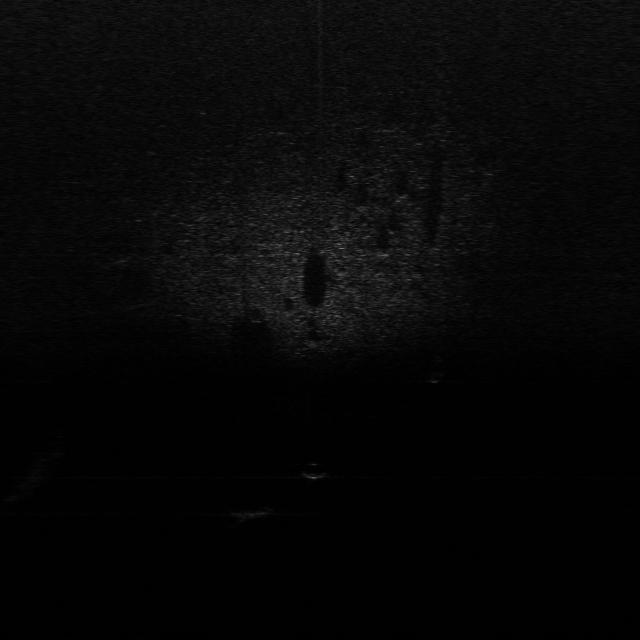ball: (303, 459, 328, 482)
square cage: (229, 502, 277, 520)
tyre: (428, 351, 451, 383)
